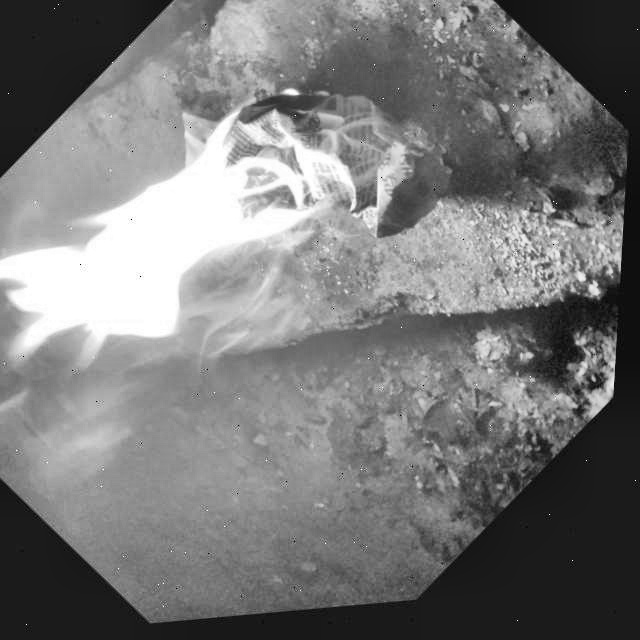Fire: (0, 15, 378, 466)
